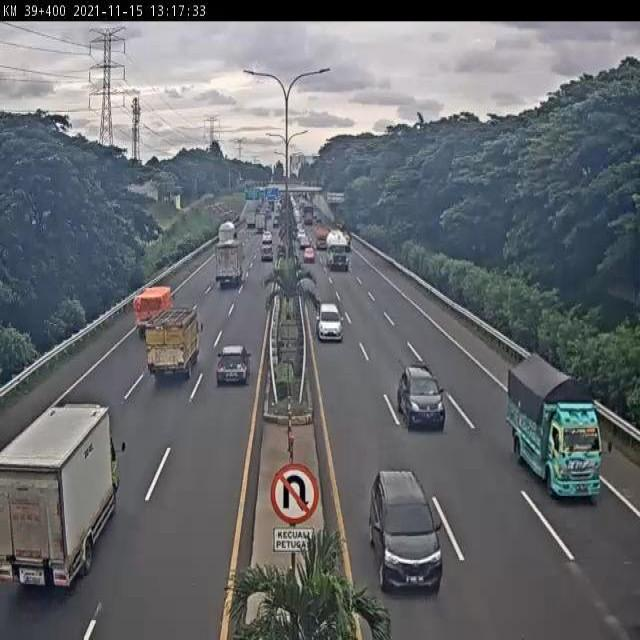car: (366, 467, 444, 600), (395, 358, 445, 431), (215, 341, 252, 388), (316, 300, 343, 341), (258, 244, 276, 267), (301, 243, 317, 265)
truck-l-: (323, 226, 350, 270)
truck-m-: (0, 403, 118, 593), (508, 355, 607, 501), (144, 304, 201, 383), (214, 239, 246, 288)
truck-s-: (134, 285, 177, 339)
